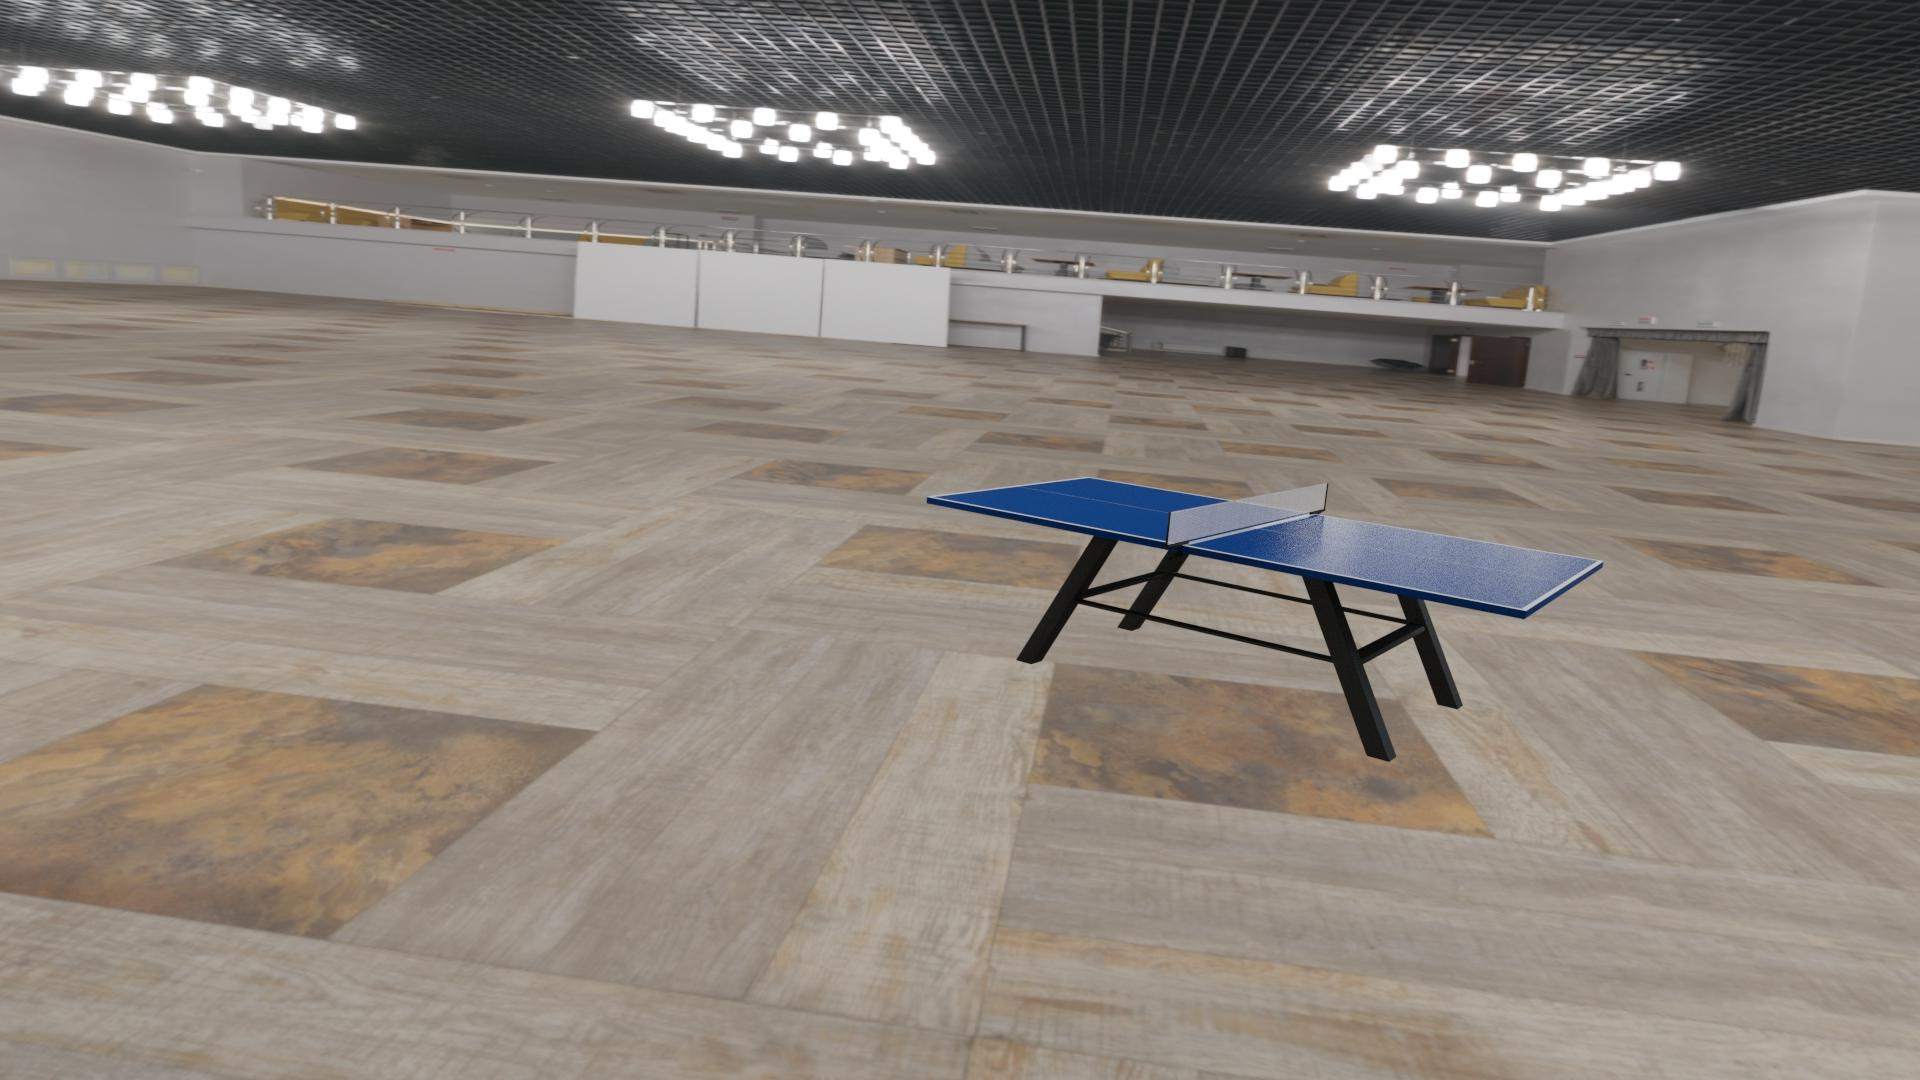table: (932, 477, 1598, 609)
